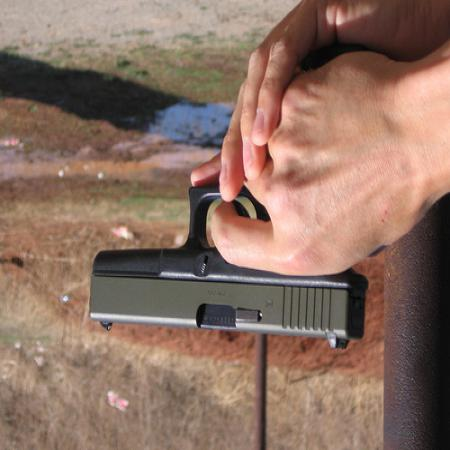Pistol: (87, 43, 381, 353)
